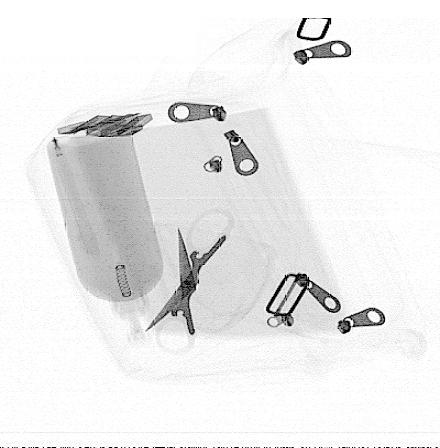Scissors: (146, 208, 235, 353)
